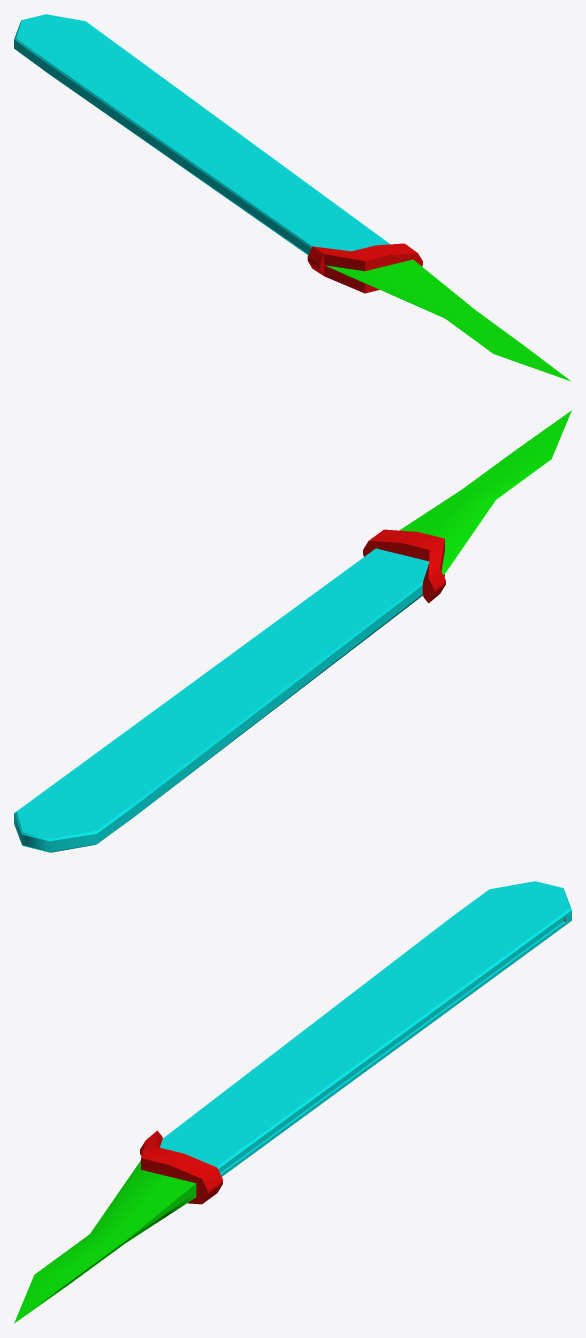
File: Scalpel.fbx
3 views of the same model, one above another, from view 1: azimuth 30°, elevation 25°; view 2: azimuth 150°, elevation 25°; view 3: azimuth 330°, elevation 25° (orthographic). The views are drawn at different scales.
Visible parts, largest first — view 1: Scalpel; view 2: Scalpel; view 3: Scalpel.
Part boxes in pixels (<box>): Scalpel: <box>14,14,571,381</box>; Scalpel: <box>14,410,571,852</box>; Scalpel: <box>14,881,571,1323</box>.
Size of the model in its own units: 61.02 by 23.04 by 647.
